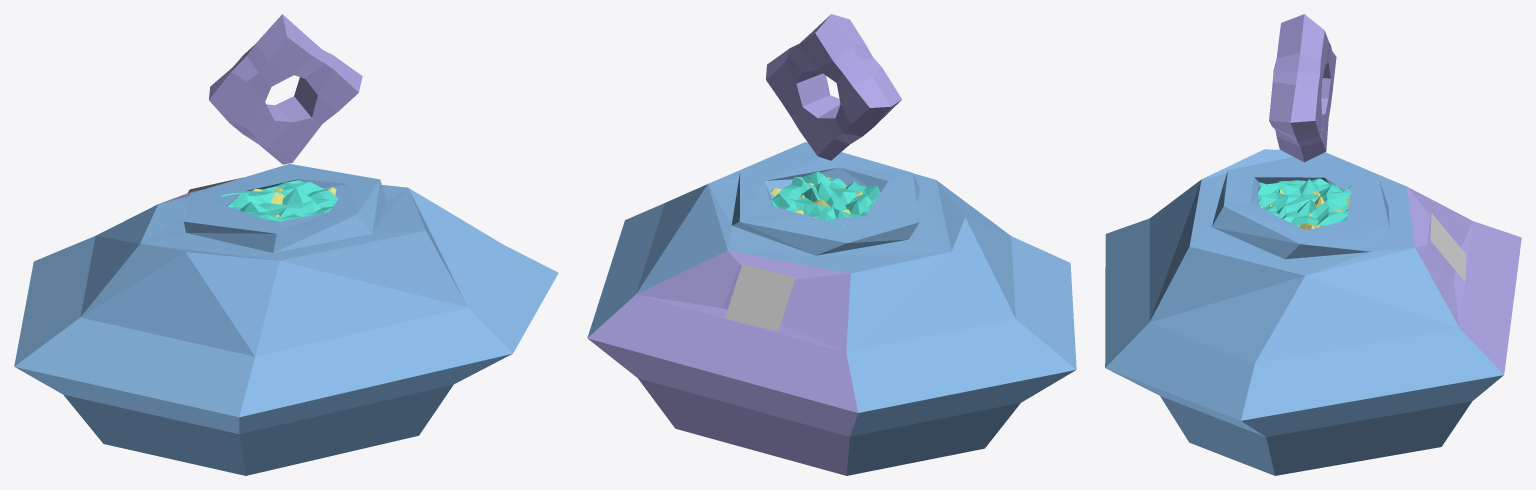
Rendered from shrine.fbx.
The picture shows the model from 3 angles, left to right: view 1: azimuth 30°, elevation 25°; view 2: azimuth 150°, elevation 25°; view 3: azimuth 270°, elevation 25°; orthographic projection. The views are drawn at different scales.
Visible parts, largest first — view 1: shrine; view 2: shrine; view 3: shrine.
Boxes of the visible parts, <box> form: shrine: <box>14,14,558,475</box>; shrine: <box>587,14,1076,475</box>; shrine: <box>1105,14,1521,475</box>.
Size of the model in its own units: 16500 by 12448 by 12017.
